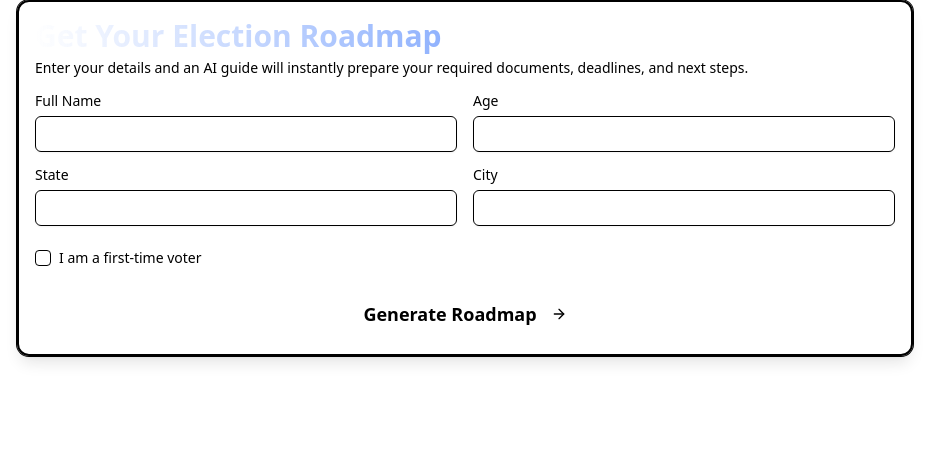
Test case: VoterJourney Component › should show generic error when API fails and json parse fails
Type "Test" into the field labelled "Full Name" at (246, 134), box [35,116,457,152]
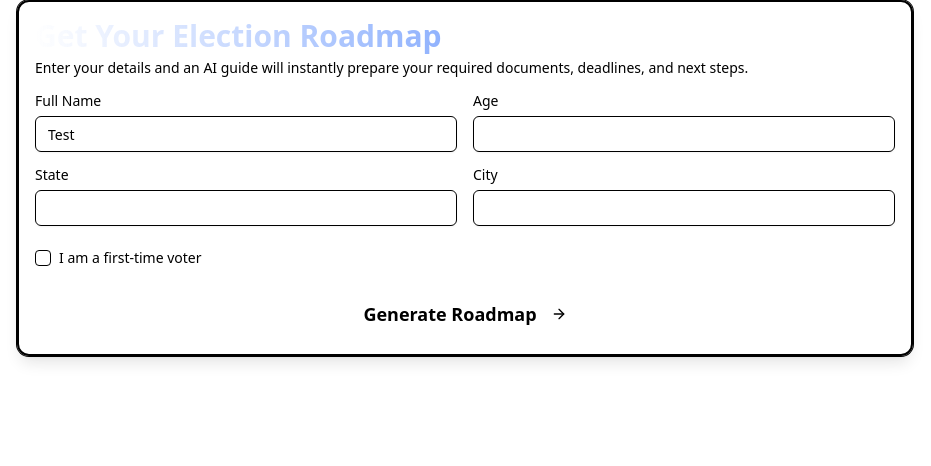
Type "25" into the number field labelled "Age" at (684, 134), box [473,116,895,152]
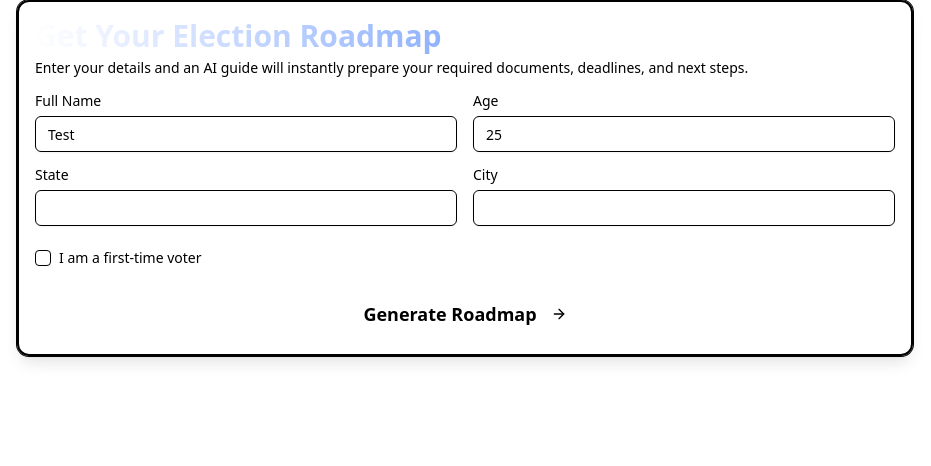
Type "Delhi" into the field labelled "State" at (246, 208), box [35,190,457,226]
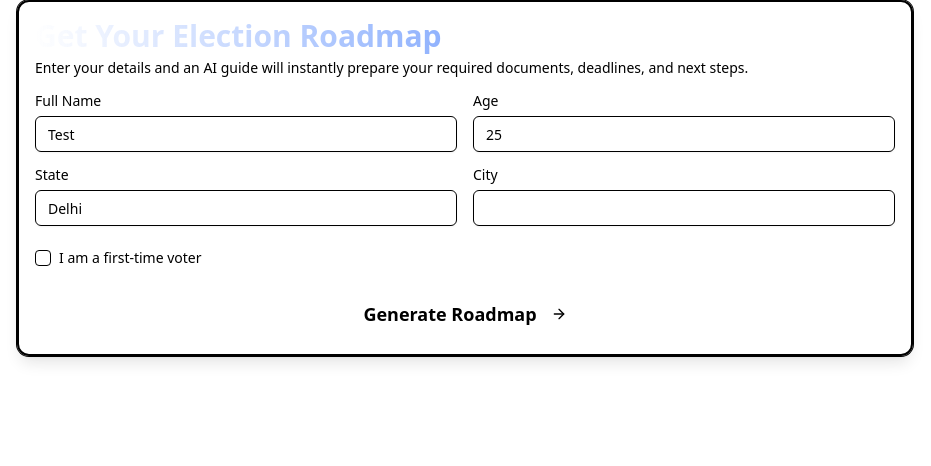
Type "Delhi" into the field labelled "City" at (684, 208), box [473,190,895,226]
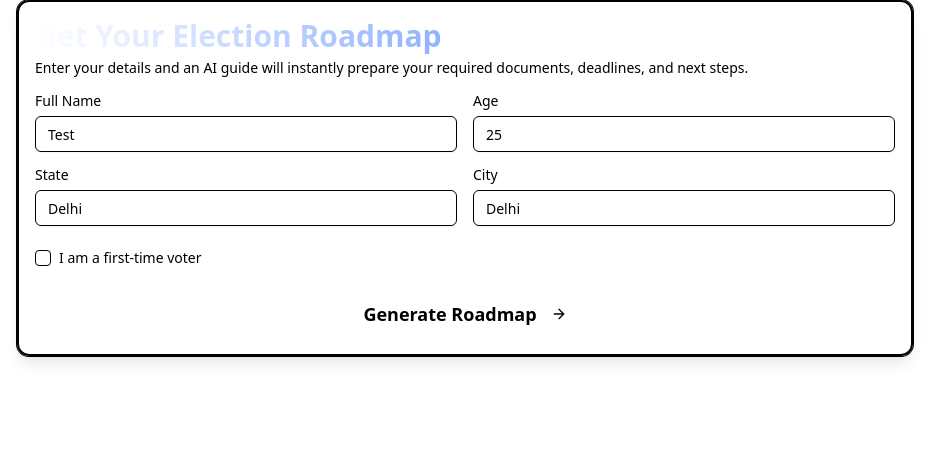
Click the button "Generate Roadmap" at (465, 314), box [35,290,895,338]
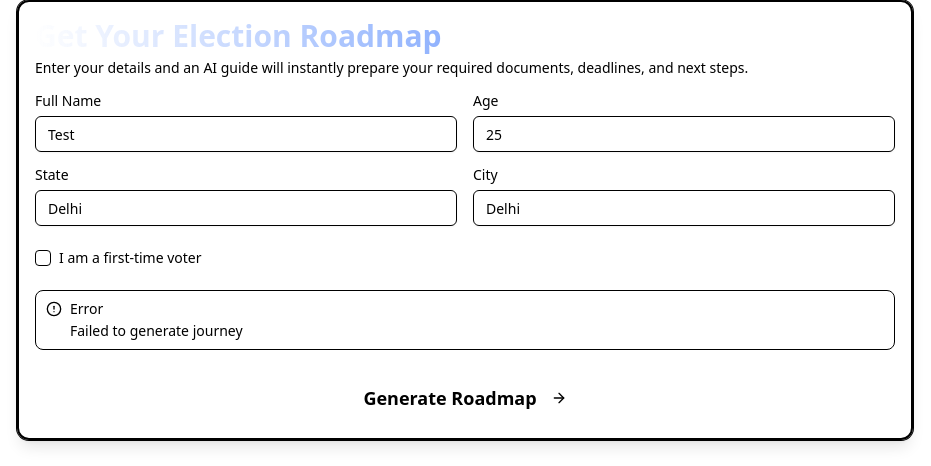
expect the text "Failed to generate journey" is shown: met, box [70,321,243,340]
